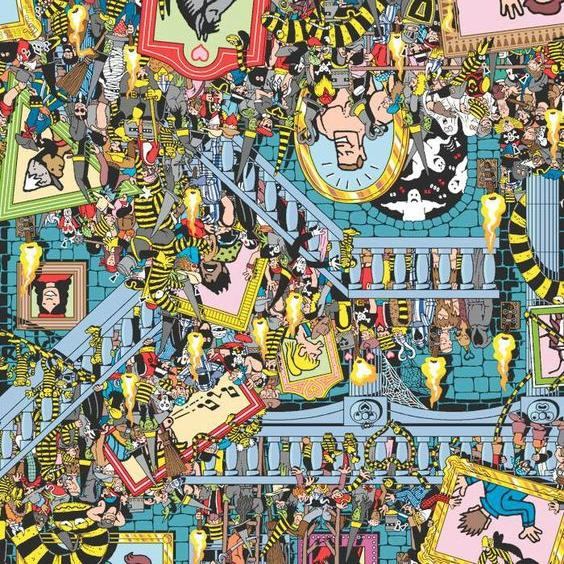waldos: (105, 470, 126, 500)
